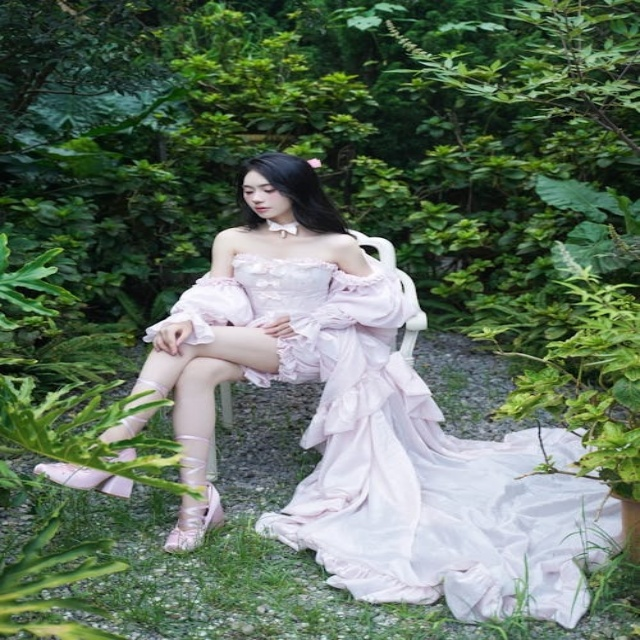Sin_gafas: (241, 181, 279, 196)
Sin_guantes: (256, 307, 324, 343), (146, 314, 198, 357)
Sin_mascara: (250, 203, 276, 214)
